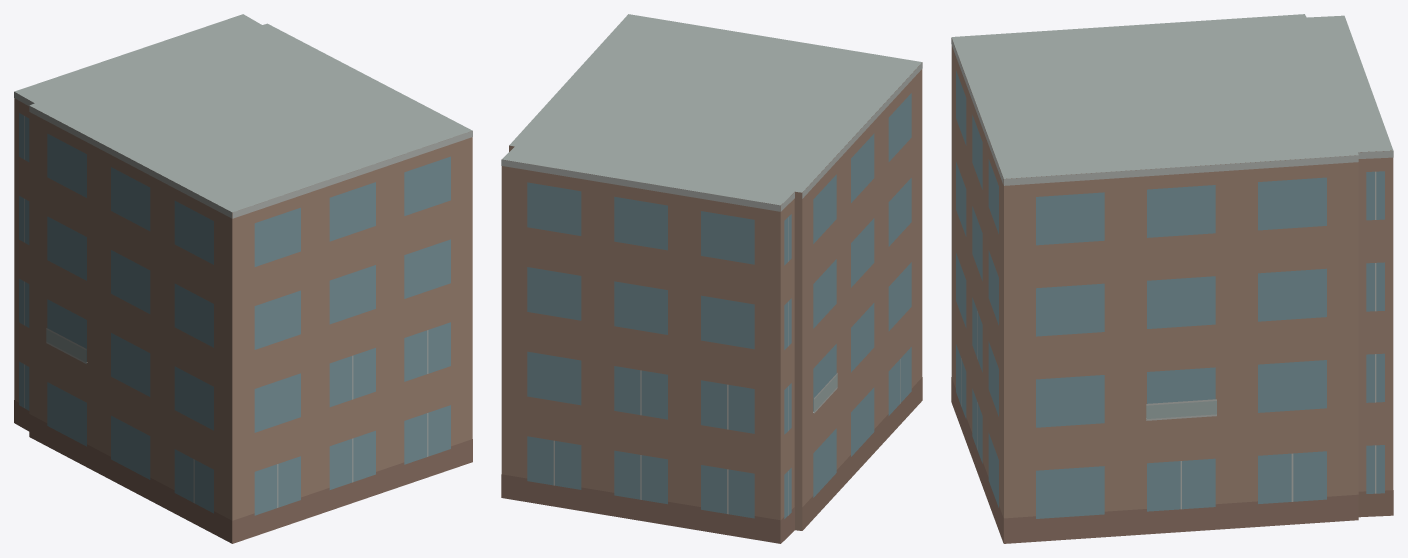
The model's file is survey-upis-32713495.glb.
The picture shows the model from 3 angles, left to right: view 1: azimuth 30°, elevation 25°; view 2: azimuth 150°, elevation 25°; view 3: azimuth 270°, elevation 25°; orthographic projection. The views are drawn at different scales.
Visible parts, largest first — view 1: survey-upis-32713495.tmp; view 2: survey-upis-32713495.tmp; view 3: survey-upis-32713495.tmp.
Boxes of the visible parts, left/top/right/bottom form: survey-upis-32713495.tmp: left=14, top=14, right=472, bottom=543; survey-upis-32713495.tmp: left=501, top=14, right=922, bottom=543; survey-upis-32713495.tmp: left=951, top=14, right=1393, bottom=543.
Bounding box in the file's own units: 12.42 × 12.8 × 14.06.
